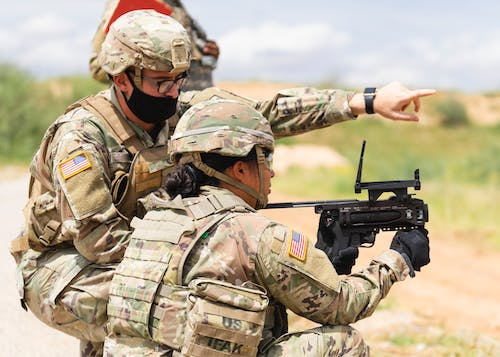gun: (261, 137, 430, 275)
